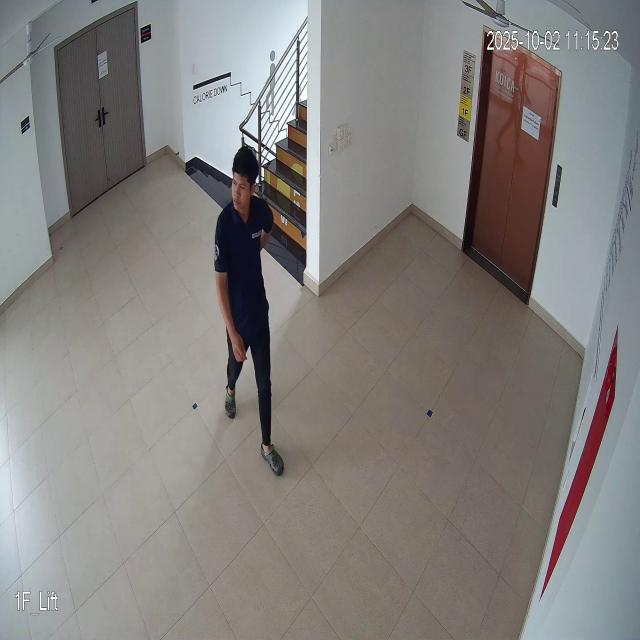face: (228, 144, 257, 219)
